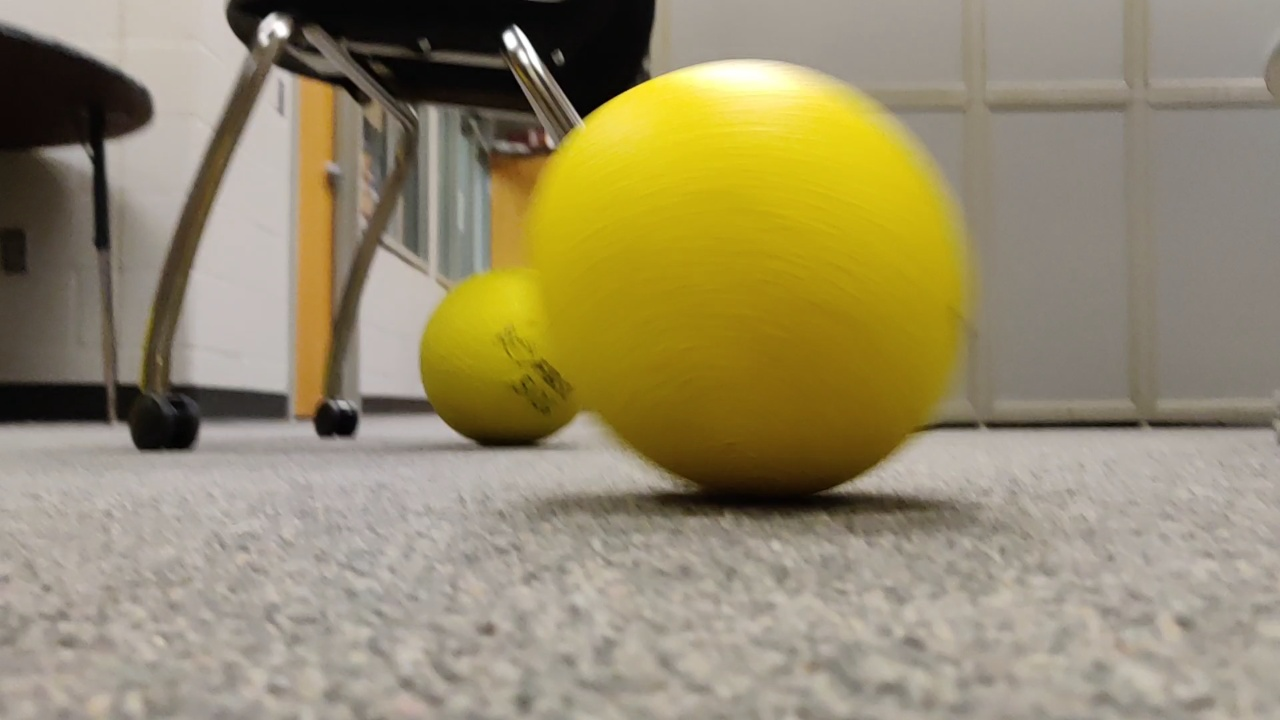Ball: (534, 59, 969, 508), (425, 274, 595, 449)
